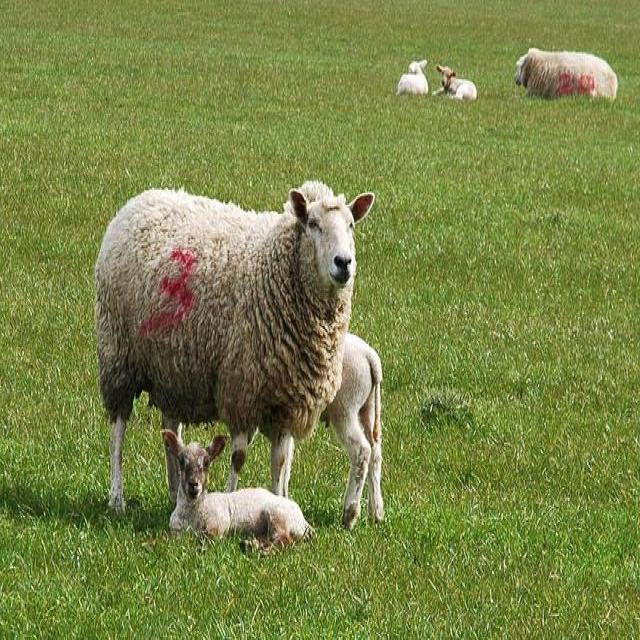Sheep: (90, 175, 376, 516), (162, 426, 323, 556), (319, 329, 389, 531), (513, 46, 620, 102)
